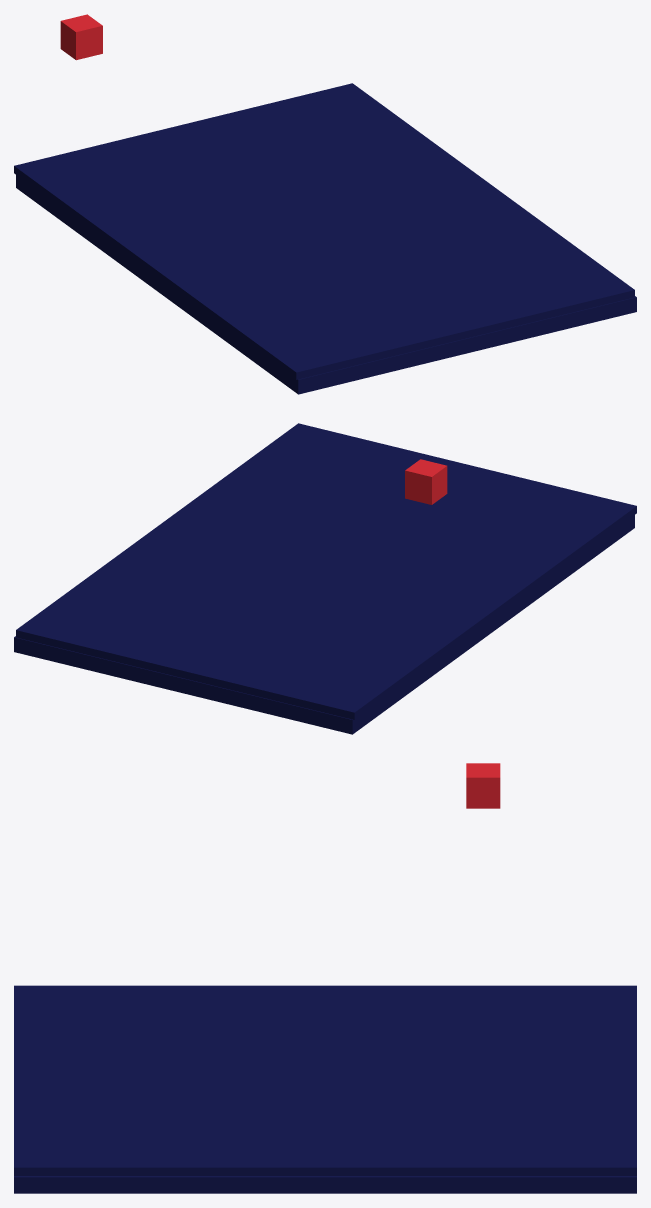
File: laptop.glb
3 views of the same model, one above another, from view 1: azimuth 30°, elevation 25°; view 2: azimuth 150°, elevation 25°; view 3: azimuth 270°, elevation 25° (orthographic). The views are drawn at different scales.
Parts seen in each view (by area): view 1: screen, body, Cube; view 2: screen, body, Cube; view 3: screen, body, Cube.
Boxes of the visible parts, x1,y1,x2,y2 form: screen: (14,83,634,379); body: (16,175,636,394); Cube: (60,14,102,60); screen: (16,423,636,719); body: (14,515,634,734); Cube: (405,459,447,504); screen: (14,985,636,1175); body: (14,1176,636,1193); Cube: (466,763,500,808).
Size of the model in its own units: 1.45 by 0.8456 by 2.
